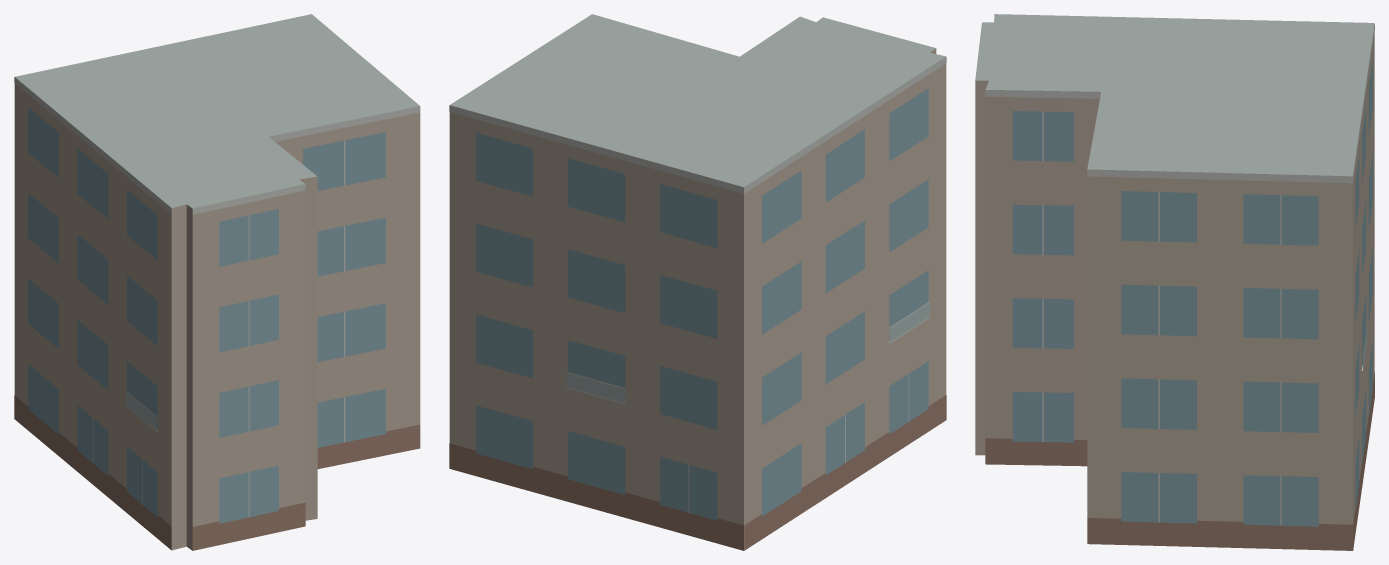
File: survey-upis-32934741.glb
3 views of the same model, side by side, from view 1: azimuth 30°, elevation 25°; view 2: azimuth 150°, elevation 25°; view 3: azimuth 270°, elevation 25° (orthographic). The views are drawn at different scales.
Parts seen in each view (by area): view 1: survey-upis-32934741.tmp; view 2: survey-upis-32934741.tmp; view 3: survey-upis-32934741.tmp.
Boxes of the visible parts, x1=… form: survey-upis-32934741.tmp: x1=14, y1=14, x2=420, y2=550; survey-upis-32934741.tmp: x1=449, y1=14, x2=946, y2=550; survey-upis-32934741.tmp: x1=975, y1=14, x2=1374, y2=550.
Size of the model in its own units: 12.23 by 13.15 by 12.72.
